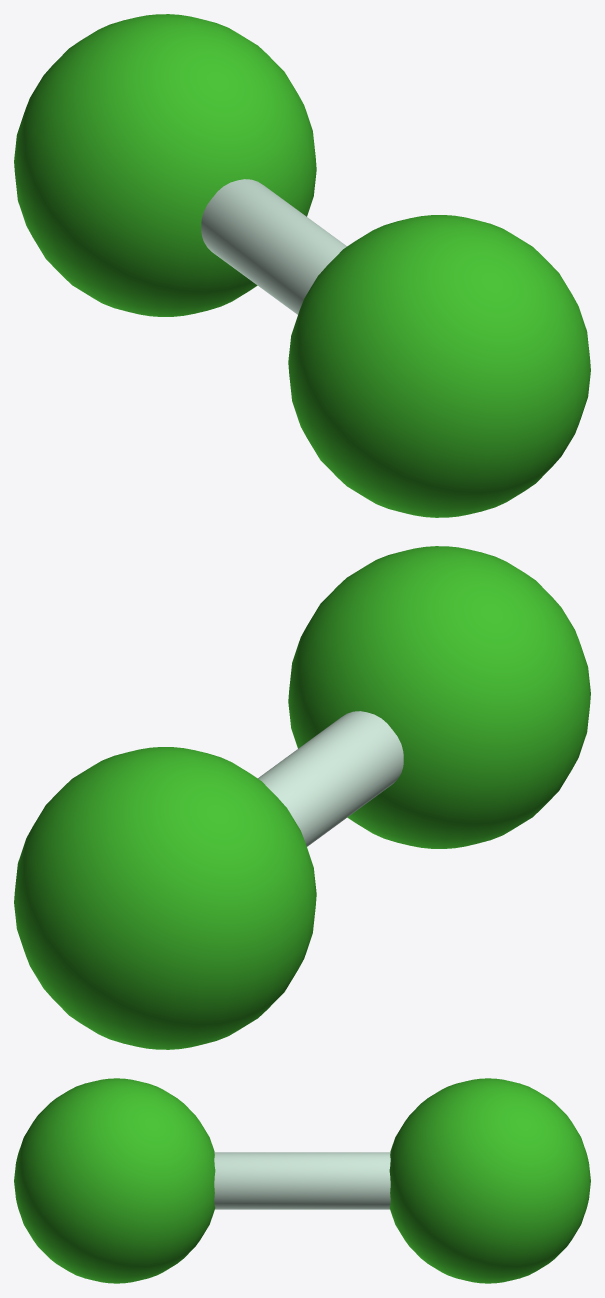
The model's file is moleculeModel4.glb.
The picture shows the model from 3 angles, top to bottom: view 1: azimuth 30°, elevation 25°; view 2: azimuth 150°, elevation 25°; view 3: azimuth 270°, elevation 25°; orthographic projection. The views are drawn at different scales.
Parts seen in each view (by area): view 1: Sphere.001, Sphere, Cylinder; view 2: Sphere, Sphere.001, Cylinder; view 3: Sphere.001, Sphere, Cylinder.
Boxes of the visible parts, x1,y1,x2,y2 form: Sphere.001: (288, 215, 590, 517); Sphere: (14, 14, 316, 316); Cylinder: (201, 179, 346, 314); Sphere: (14, 747, 316, 1049); Sphere.001: (288, 546, 590, 848); Cylinder: (258, 711, 403, 846); Sphere.001: (14, 1078, 215, 1283); Sphere: (389, 1078, 590, 1283); Cylinder: (214, 1152, 390, 1209).
Size of the model in its own units: 4.13 by 4.13 by 11.61.
